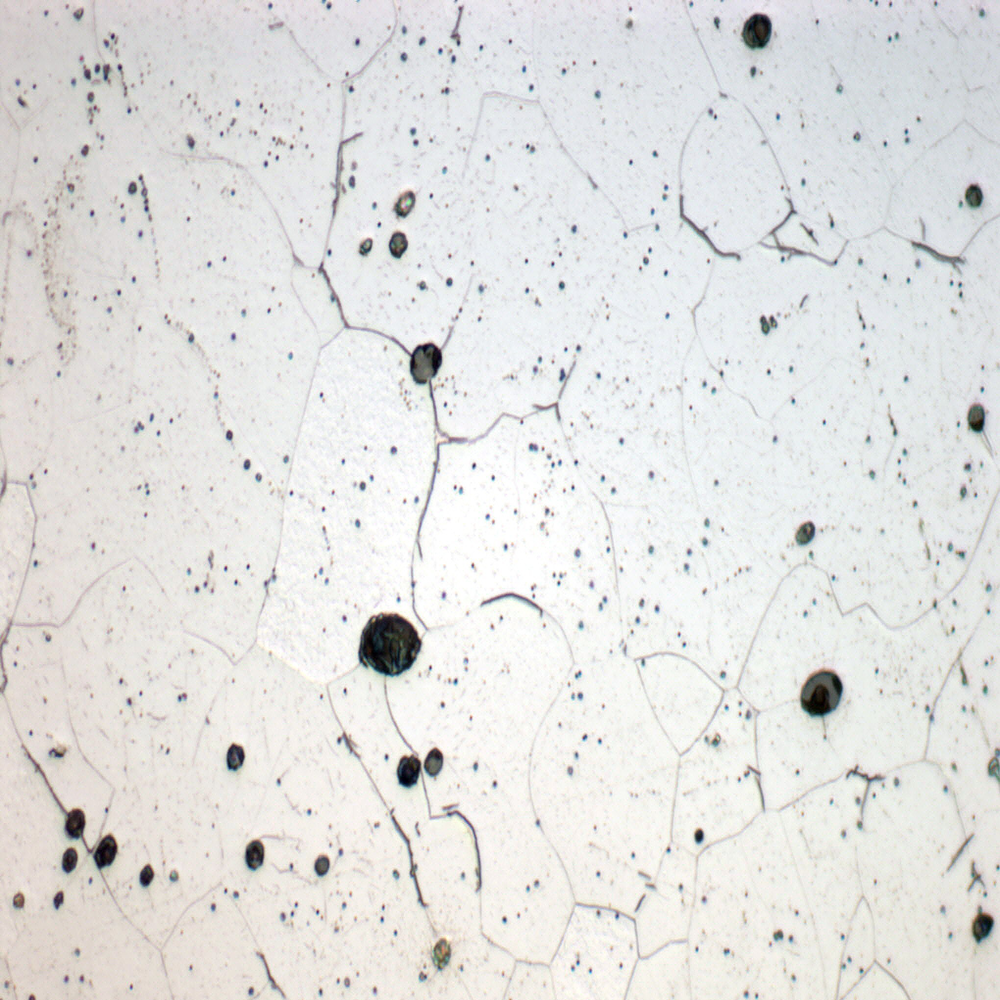crack: (24, 766, 402, 916), (372, 311, 484, 422), (331, 597, 448, 692), (769, 641, 865, 728)
